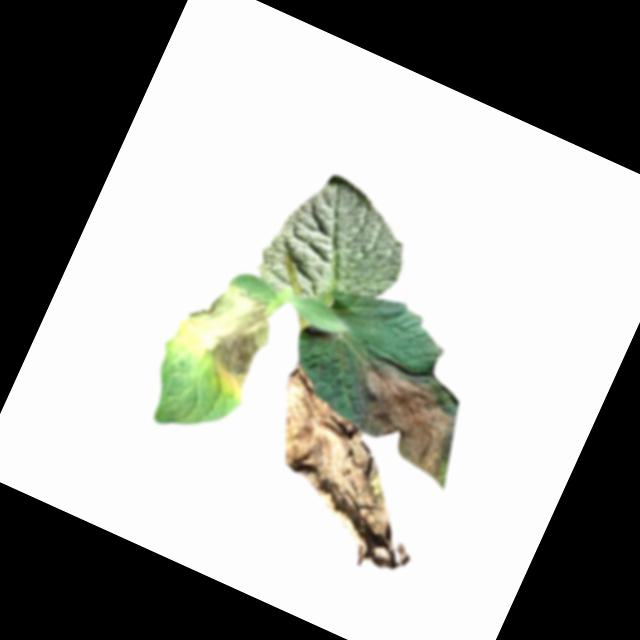Late_blight: (228, 361, 465, 584), (330, 348, 478, 484), (164, 269, 285, 393)
